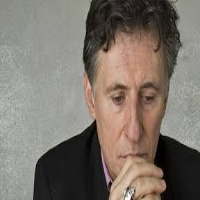ring: (121, 175, 172, 194)
